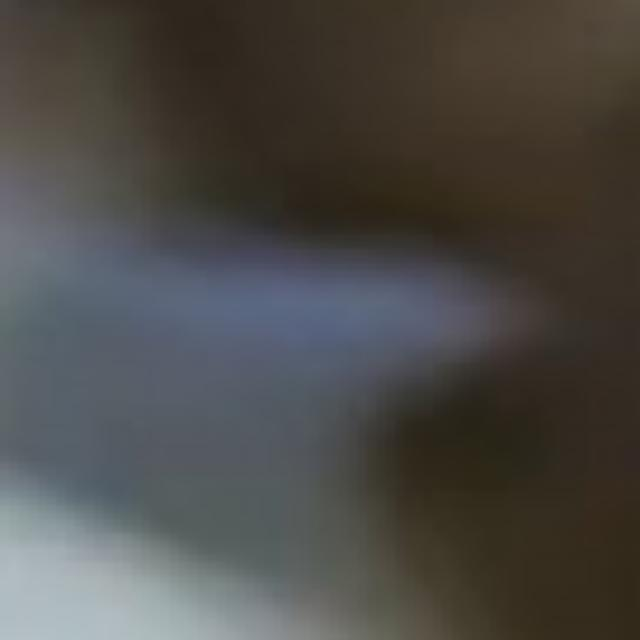fish: (9, 7, 640, 640)
